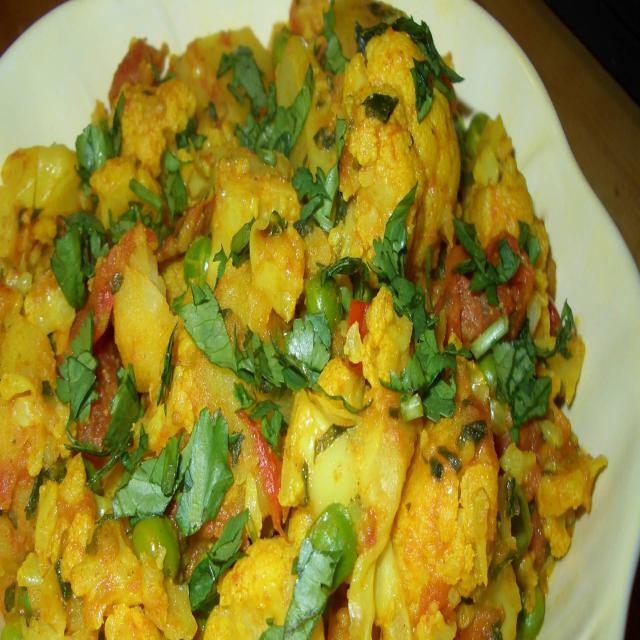cauliflower: (0, 38, 578, 640)
